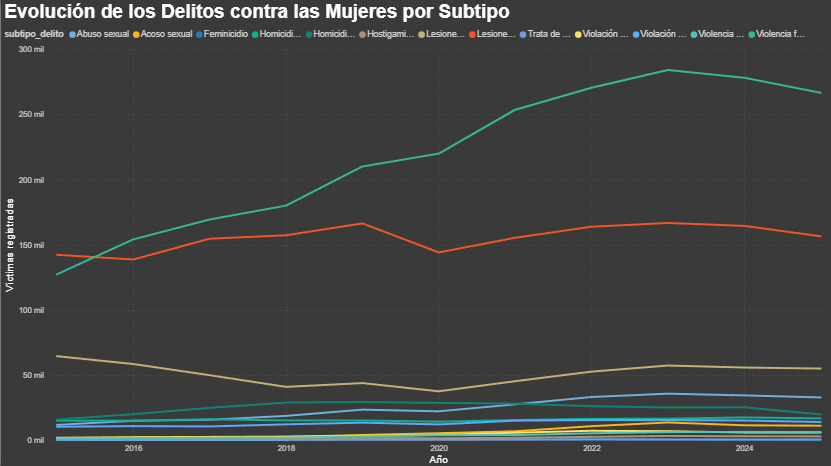

What the dashboard file says about the page in this screenshot:
{"tool":"powerbi","page":{"name":"G4","canvas":[1280,720],"ordinal":3},"visuals":[{"type":"lineChart","title":"Evolución de los Delitos contra las Mujeres por Subtipo","fields":{"Category":["crecimiento_delitos.anio"],"Y":["Sum(crecimiento_delitos.total_victimas)"],"Series":["crecimiento_delitos.subtipo_delito"]},"box":[0,0,1280,720],"z":0}]}

Visuals, with their boxes in screenshot pixels (x1, y1, x2, y2), scaled from the page's 1280x720 canvas onto the 831x466 screenshot:
"Evolución de los Delitos contra las Mujeres por Subtipo" lineChart: (left=0, top=0, right=830, bottom=465)
